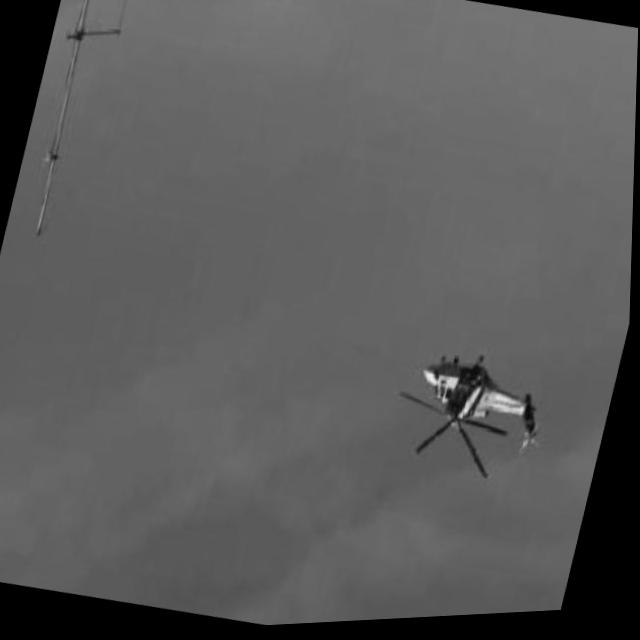helikopter: (386, 342, 559, 493)
